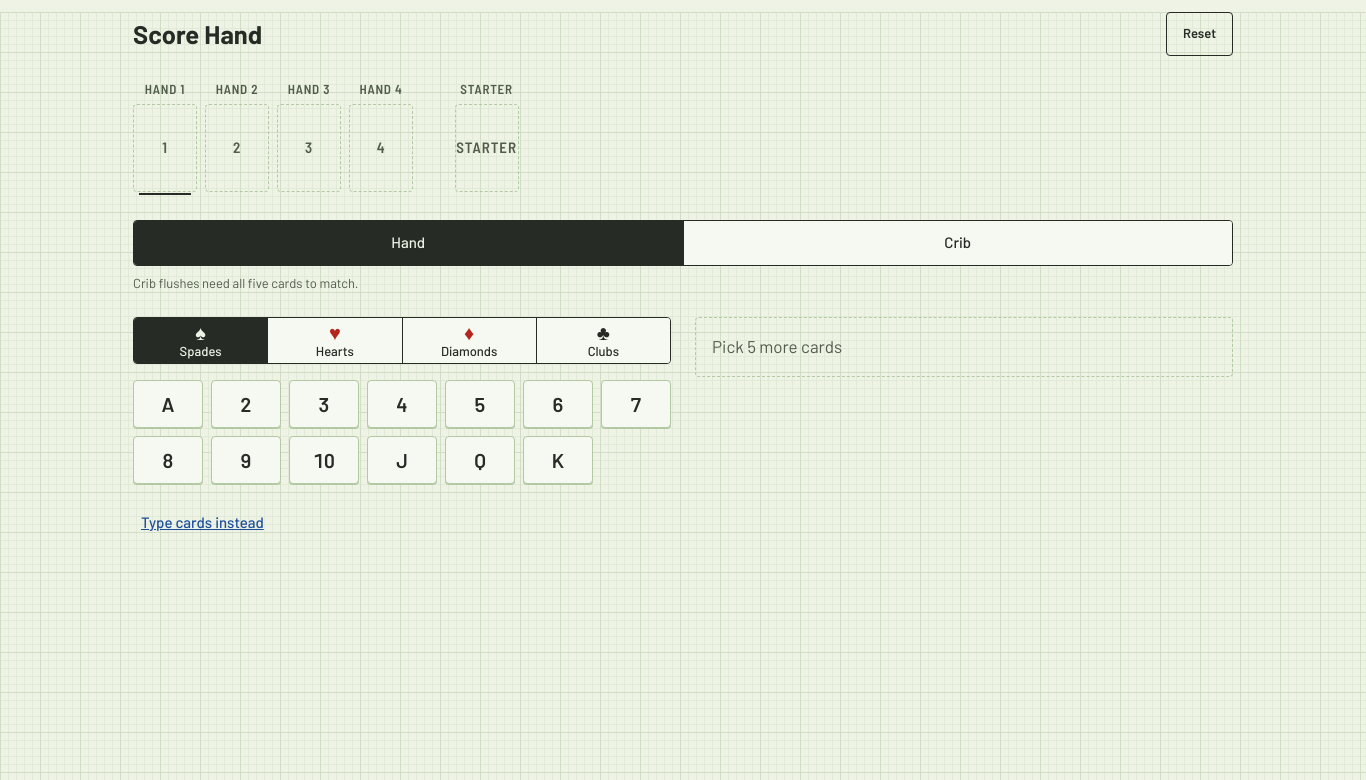
HandPage › shows an incomplete, count-aware message before 5 cards are chosen
The width and height of the screenshot is (1366, 780).
Expected: the text "Pick 5 more cards" is shown, [695, 317, 1233, 376]
Click the radio button labelled "♠ Spades". click: (201, 340)
box: [134, 318, 268, 363]
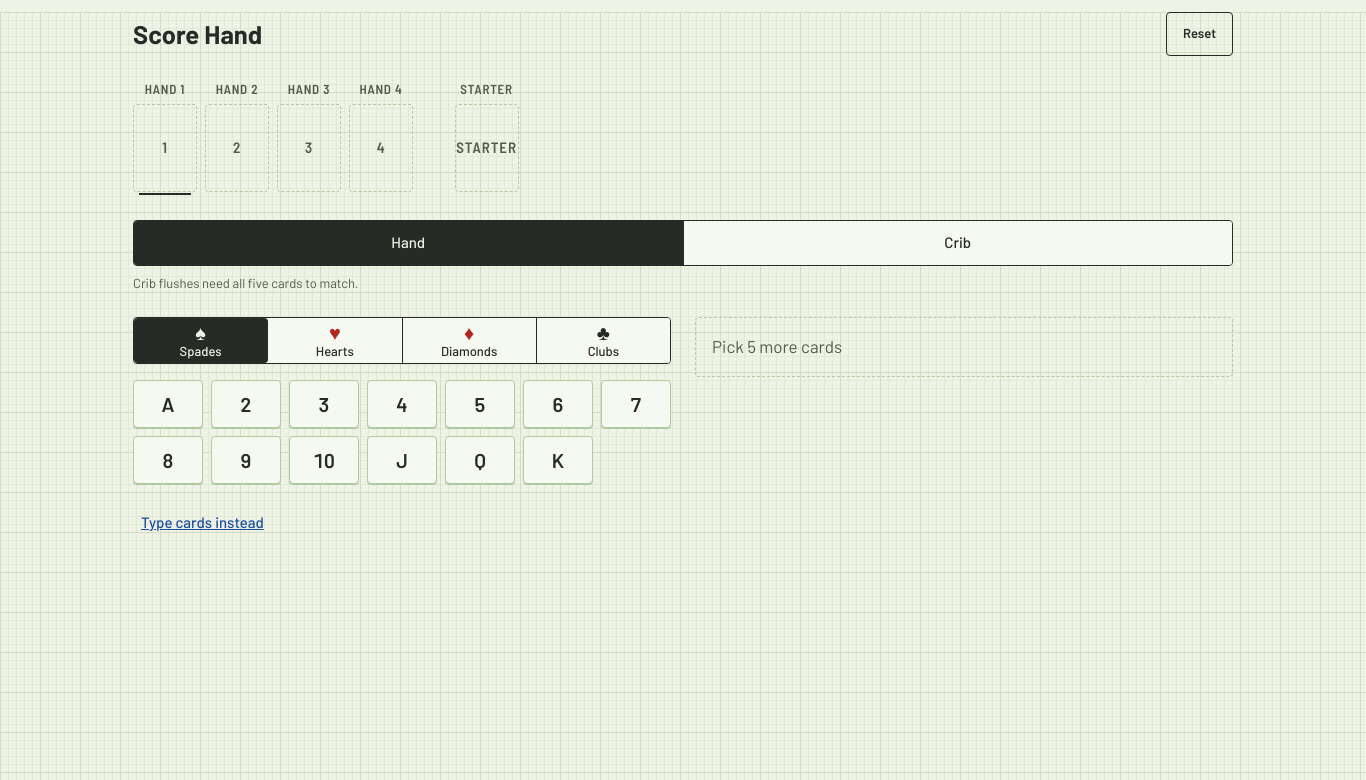
Click the button named "5 of". click: (480, 404)
box: [445, 380, 515, 428]
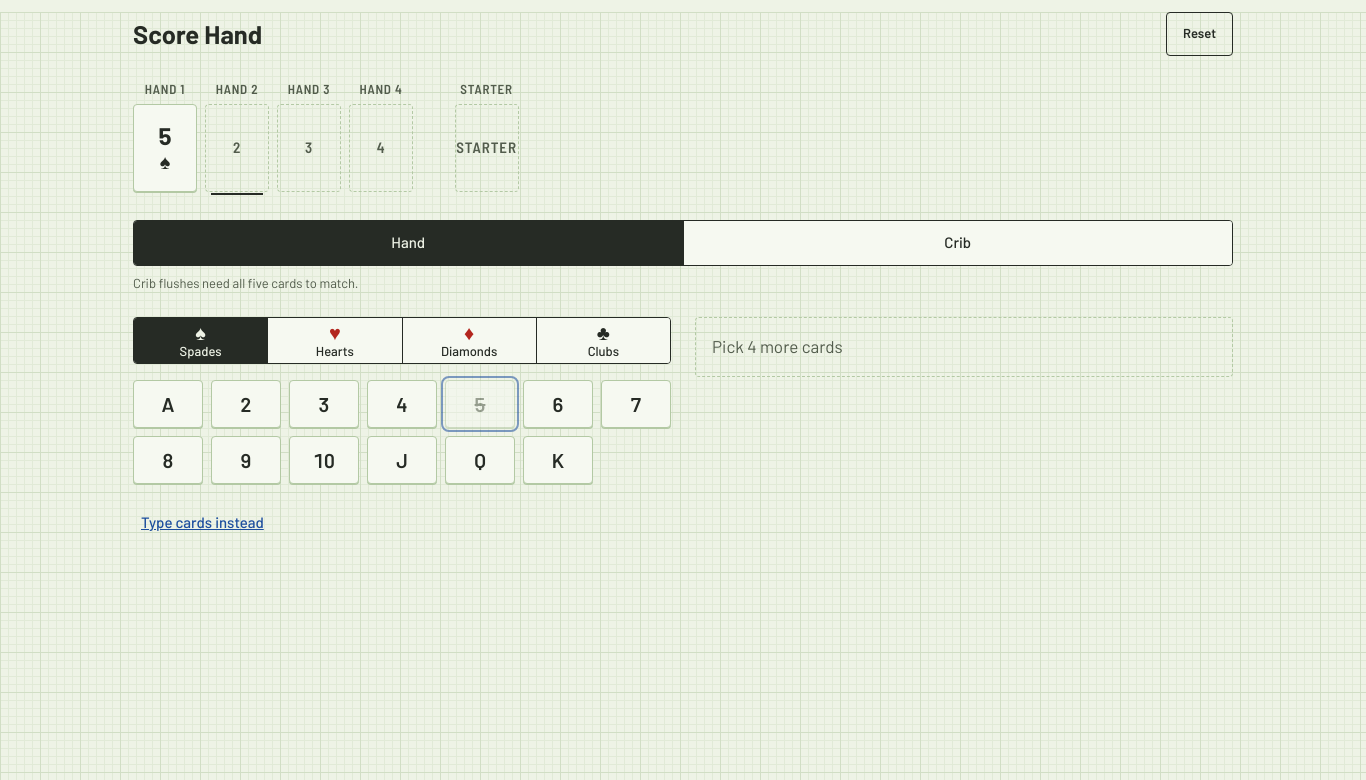
Result: the text "Pick 4 more cards" is shown at [695, 317, 1233, 376]
